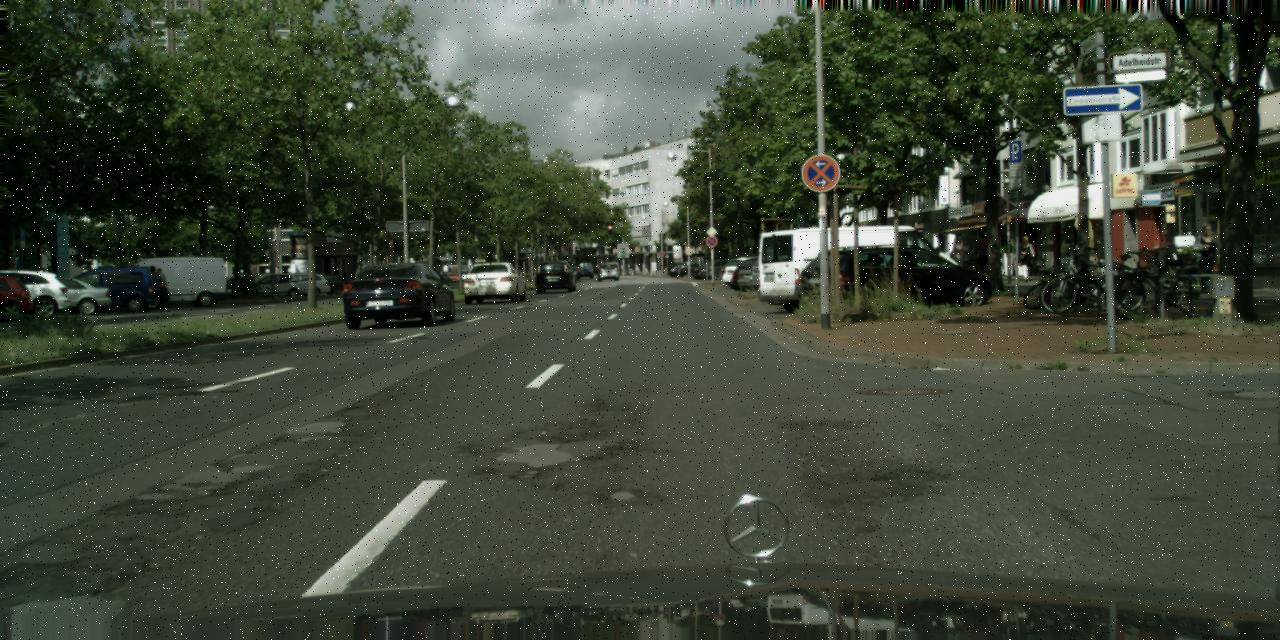ped: (1194, 224, 1219, 288), (1016, 235, 1034, 282), (972, 233, 990, 278), (152, 268, 167, 303), (35, 266, 48, 300)
